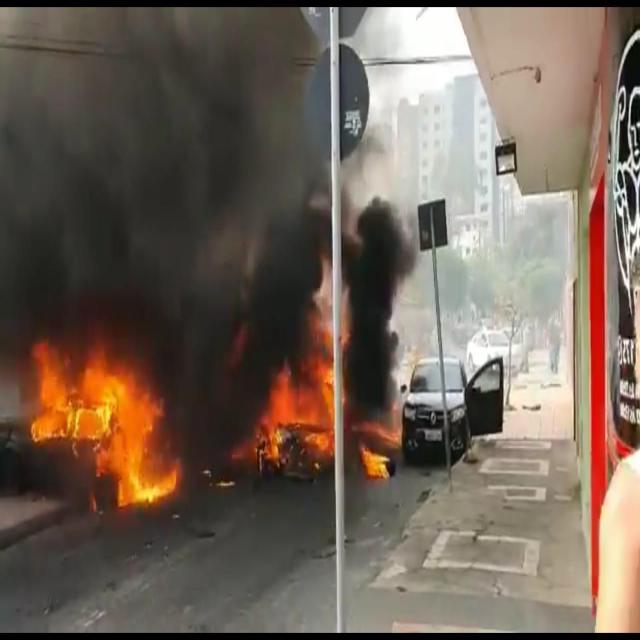Fire: (23, 343, 187, 507), (262, 290, 342, 460), (362, 441, 388, 483)
